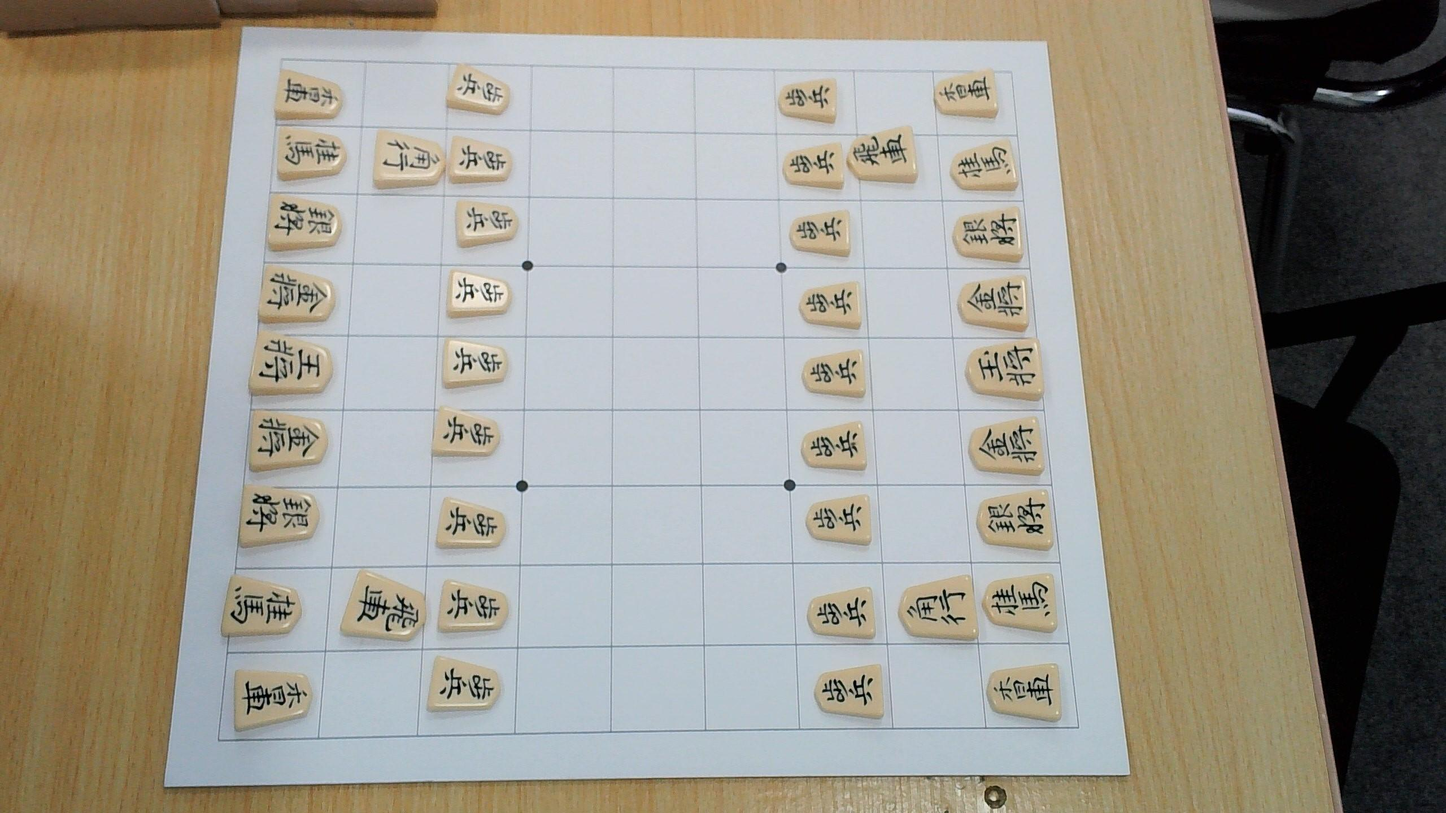board: (219, 59, 1077, 741)
